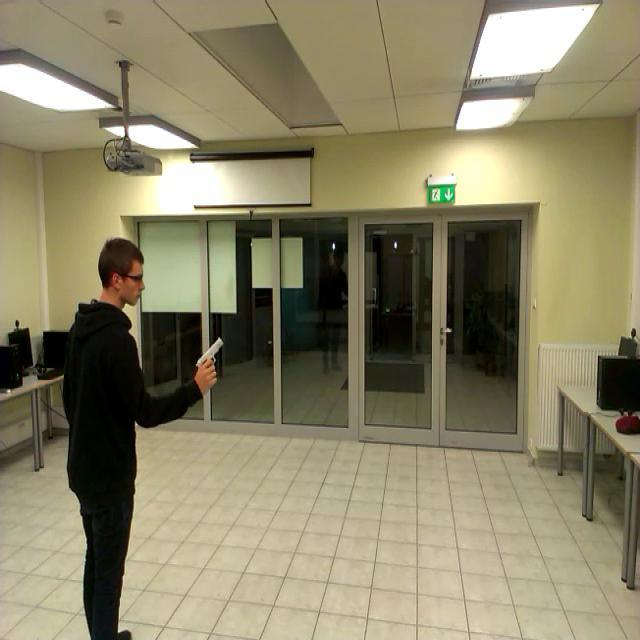Gun: (194, 336, 223, 380)
